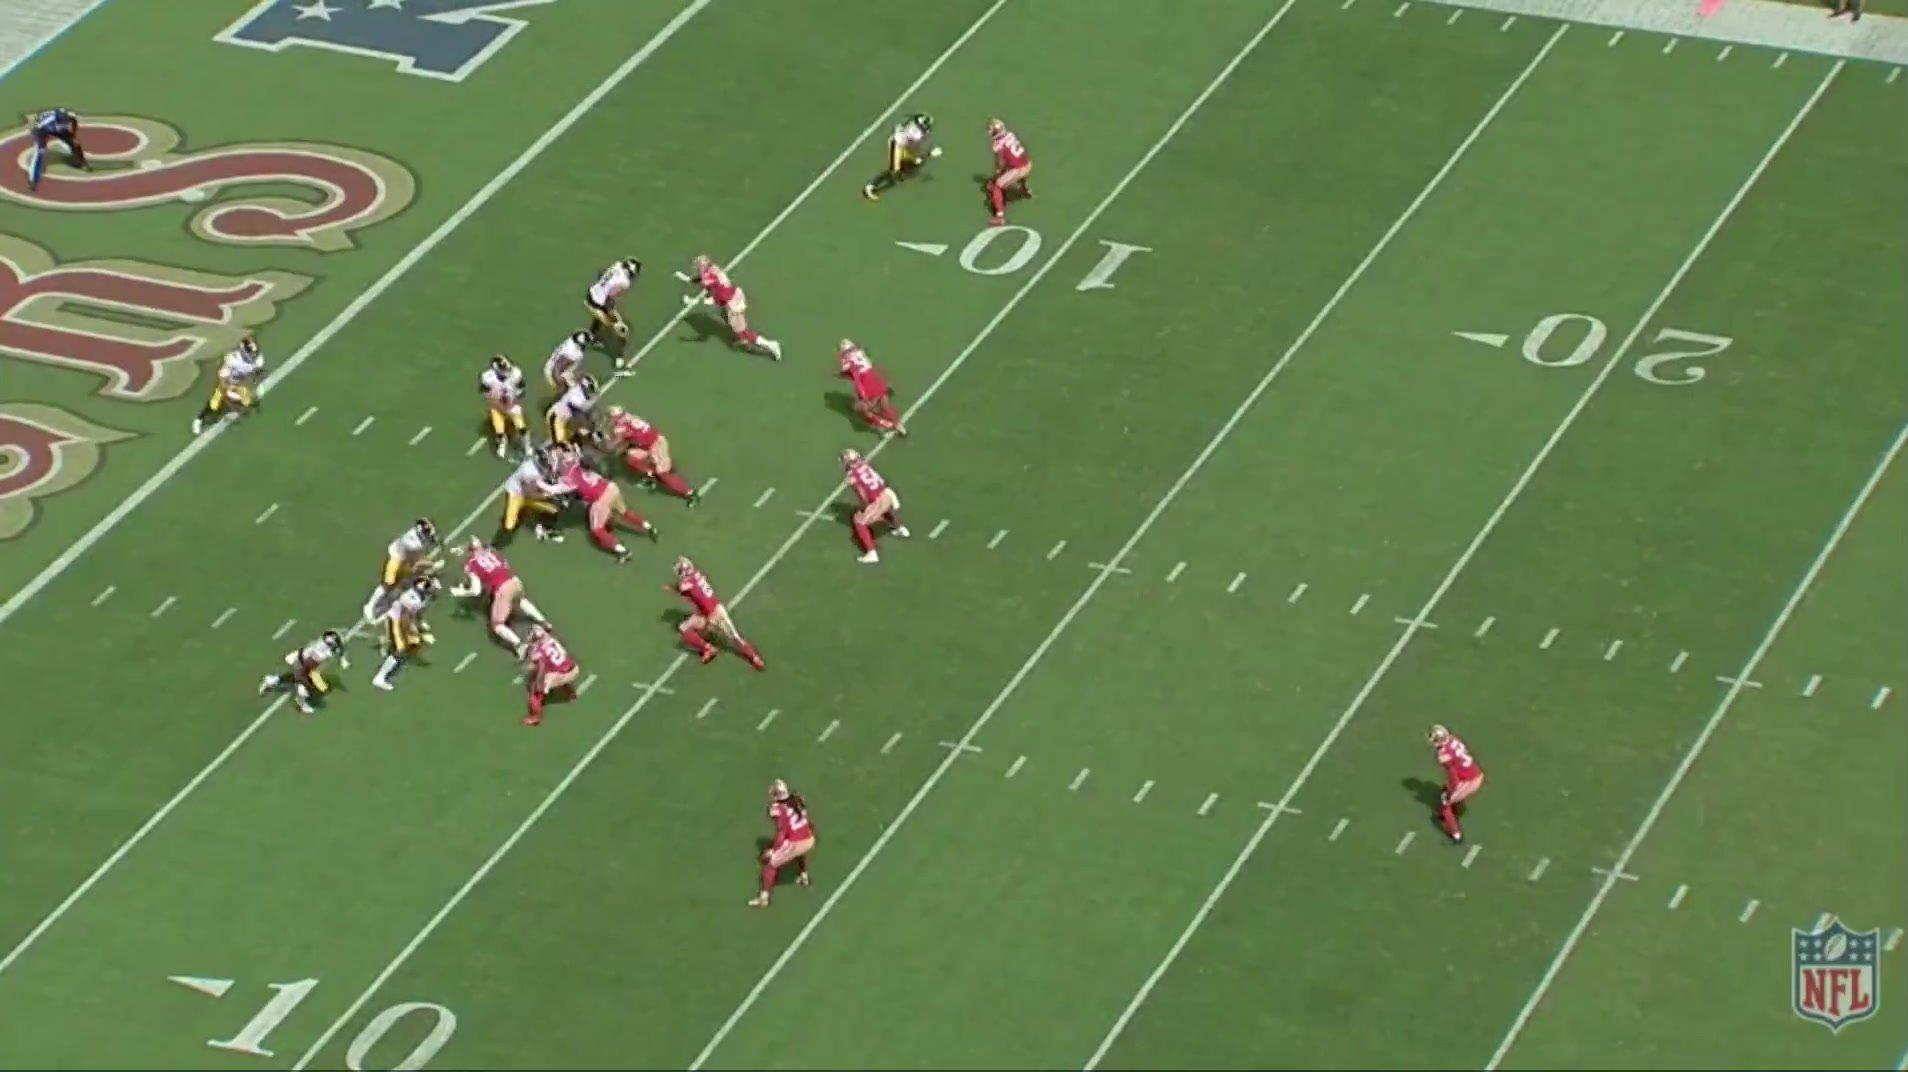player: (656, 554, 764, 678), (448, 534, 552, 661), (557, 443, 660, 562), (675, 257, 781, 371), (753, 777, 829, 918), (372, 569, 451, 698), (602, 405, 702, 505), (837, 445, 911, 572), (258, 622, 351, 720), (859, 107, 941, 212), (192, 332, 267, 446), (833, 337, 910, 446), (1427, 721, 1490, 853), (520, 619, 586, 737), (377, 518, 449, 625), (585, 252, 647, 376), (496, 443, 560, 549), (981, 114, 1040, 228), (480, 352, 539, 465), (539, 324, 598, 401), (547, 373, 601, 457)
ref: (19, 103, 93, 200)
